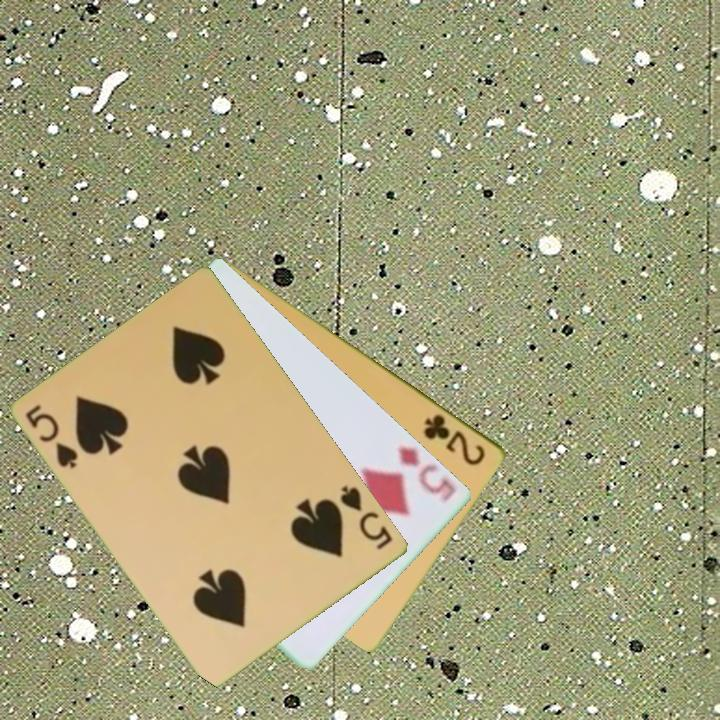2c: (421, 410, 489, 469)
5d: (393, 442, 460, 501)
5s: (337, 482, 397, 553), (22, 401, 82, 472)
